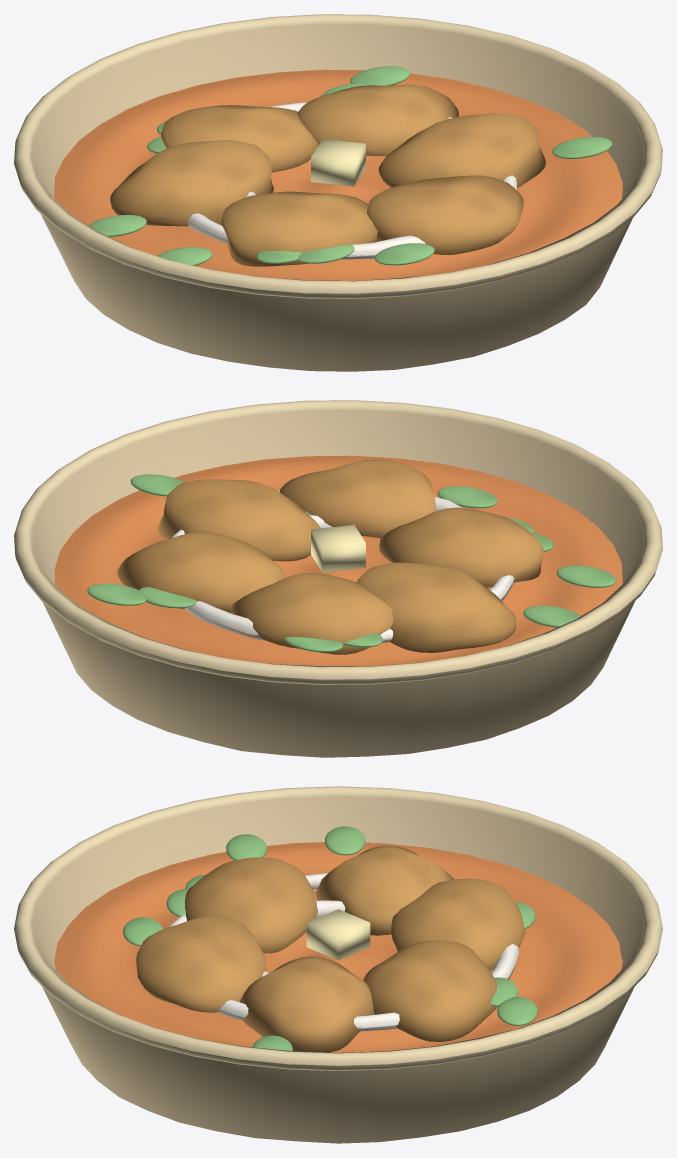
The model's file is butter-chicken.glb.
The picture shows the model from 3 angles, top to bottom: view 1: azimuth 30°, elevation 25°; view 2: azimuth 150°, elevation 25°; view 3: azimuth 270°, elevation 25°; orthographic projection.
Bounding box in the file's own units: 0.286 × 0.068 × 0.286.
